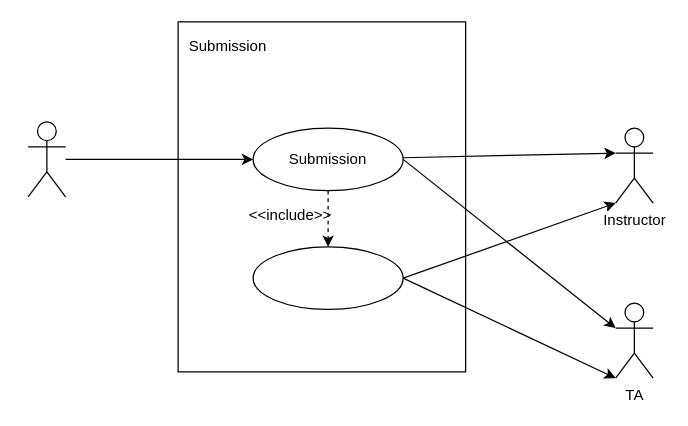
Image size: 688x426. Some labels were removed from this diagram. The centre of each missing label's shape, as x and y in pixels:
"Add note" belongs at (327,277).
"Student" belongs at (46,159).
